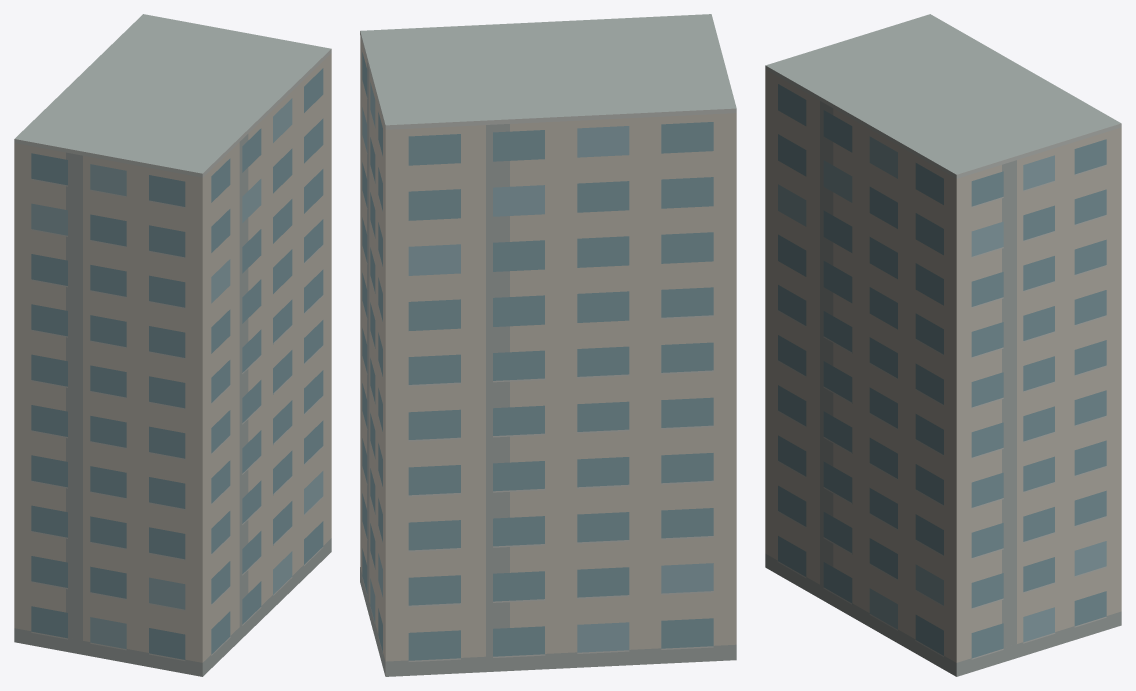
Rendered from residential-ef4f25d9-39ca-4af0-a404-4f7e8c381027.glb.
3 views of the same model, side by side, from view 1: azimuth 30°, elevation 25°; view 2: azimuth 150°, elevation 25°; view 3: azimuth 270°, elevation 25° (orthographic). The views are drawn at different scales.
Visible parts, largest first — view 1: residential-ef4f25d9-39ca-4af0-a404-4f7e8c381027.tmp; view 2: residential-ef4f25d9-39ca-4af0-a404-4f7e8c381027.tmp; view 3: residential-ef4f25d9-39ca-4af0-a404-4f7e8c381027.tmp.
Boxes of the visible parts, x1=… form: residential-ef4f25d9-39ca-4af0-a404-4f7e8c381027.tmp: x1=14, y1=14, x2=331, y2=676; residential-ef4f25d9-39ca-4af0-a404-4f7e8c381027.tmp: x1=360, y1=14, x2=736, y2=676; residential-ef4f25d9-39ca-4af0-a404-4f7e8c381027.tmp: x1=765, y1=14, x2=1121, y2=676.
Size of the model in its own units: 20.62 by 30 by 19.29.
